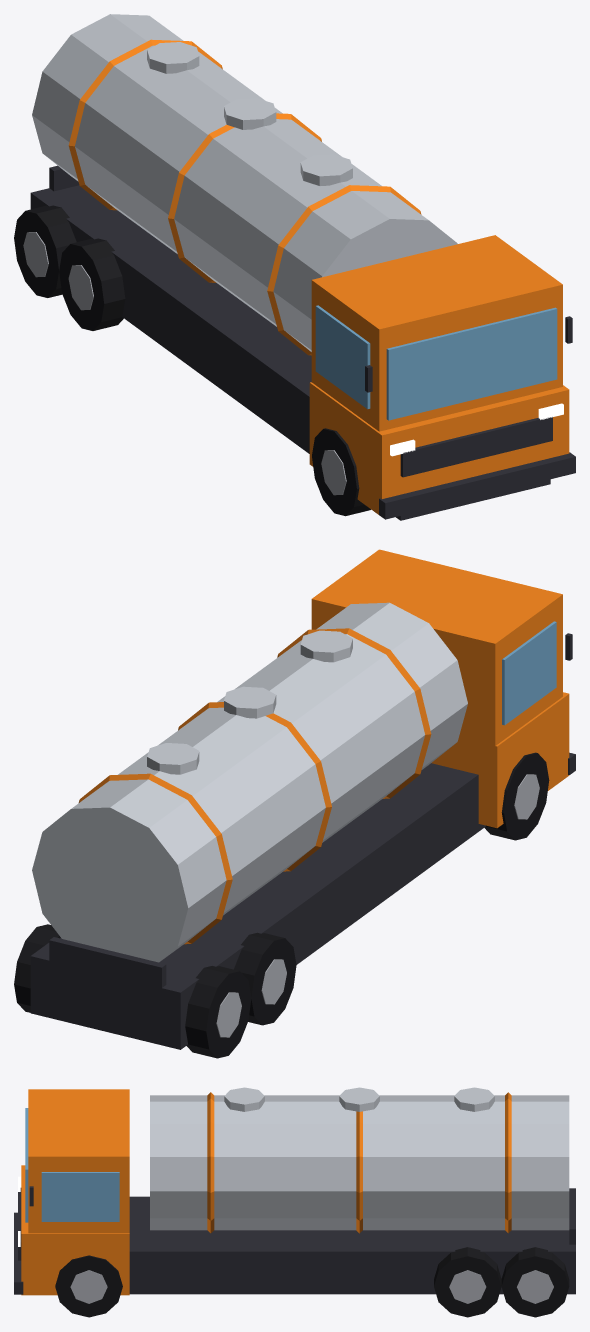
Rendered from fuel_tanker.glb.
3 renders of one model, top to bottom at view 1: azimuth 30°, elevation 25°; view 2: azimuth 150°, elevation 25°; view 3: azimuth 270°, elevation 25°, orthographic. The views are drawn at different scales.
Parts seen in each view (by area): view 1: fuel_tanker; view 2: fuel_tanker; view 3: fuel_tanker.
Boxes of the visible parts, x1,y1,x2,y2 form: fuel_tanker: (14,14,575,520); fuel_tanker: (14,549,575,1058); fuel_tanker: (14,1087,575,1317).
Size of the model in its own units: 2.62 by 3.04 by 8.31.
